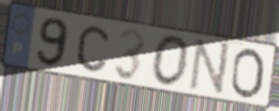3: (113, 27, 151, 82)
9: (35, 16, 72, 69)
C: (75, 24, 111, 74)
N: (187, 37, 233, 98)
O: (150, 33, 192, 89), (228, 47, 266, 101)
